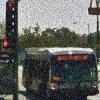buses: (20, 46, 100, 100)
